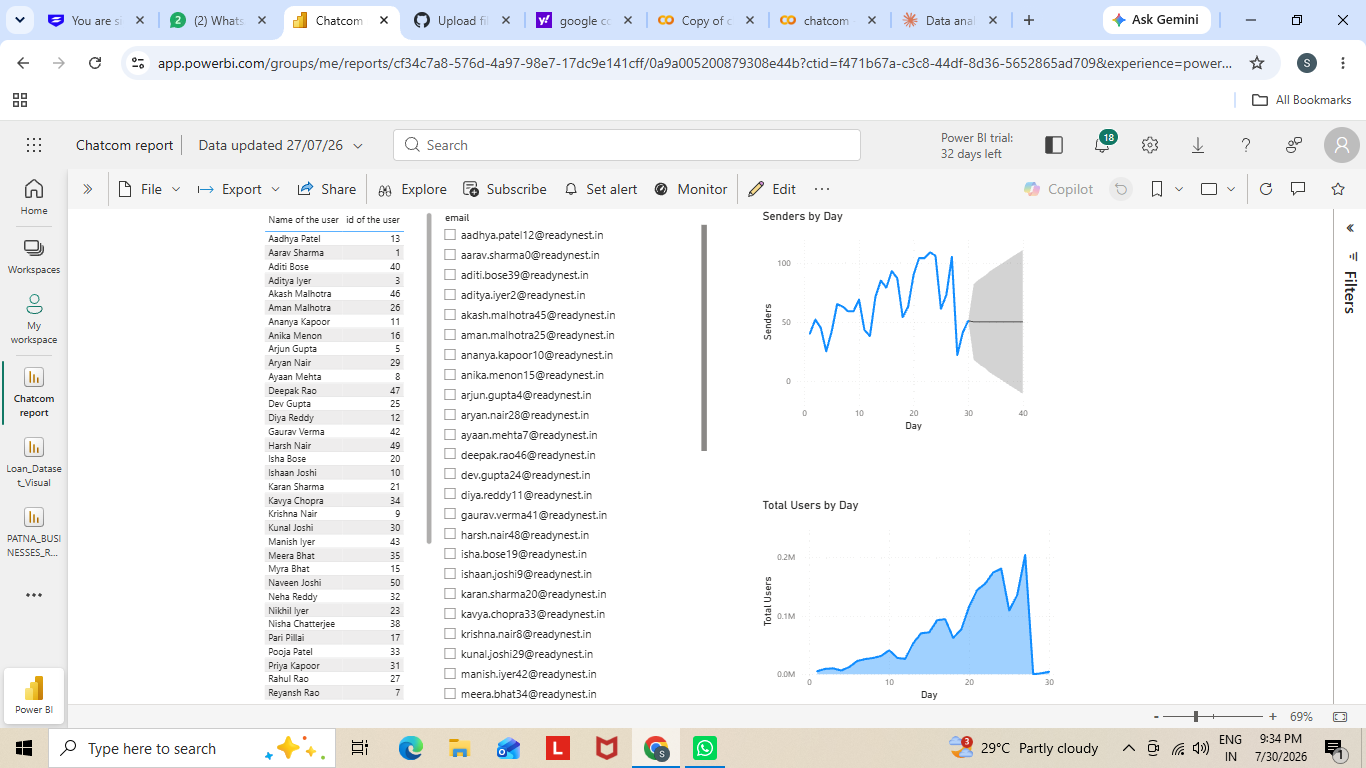

The page's visual inventory and layout, read from the dashboard file:
{"tool":"powerbi","page":{"name":"Users Details","canvas":[1280,720],"ordinal":1},"visuals":[{"type":"lineChart","fields":{"Category":["messages_export (1).created_at.Variation.Date Hierarchy.Day"],"Y":["CountNonNull(messages_export (1).id)"]},"box":[724.5,0,398.8,327.4],"z":0},{"type":"tableEx","fields":{"Values":["users_export (1).name","users_export (1).id"]},"box":[0,0,254.3,719.2],"z":1},{"type":"areaChart","fields":{"Category":["messages_export (1).created_at.Variation.Date Hierarchy.Day"],"Y":["Sum(messages_export (1).id)"]},"box":[724.5,419.7,437.1,299.5],"z":2},{"type":"slicer","fields":{"Values":["users_export (1).email"]},"box":[254.3,0,398.8,719.2],"z":3}]}

Visuals, with their boxes on the page's 1280x720 design canvas (x1, y1, x2, y2). These are canvas units, not pixel positions in the 1366x768 screenshot, which may show the page scaled, cropped or inside an application window:
lineChart - messages_export (1).created_at.Variation.Date Hierarchy.Day x CountNonNull(messages_export (1).id): [724,0,1123,327]
tableEx - users_export (1).name x users_export (1).id: [0,0,254,719]
areaChart - messages_export (1).created_at.Variation.Date Hierarchy.Day x Sum(messages_export (1).id): [724,420,1162,719]
slicer - users_export (1).email: [254,0,653,719]
